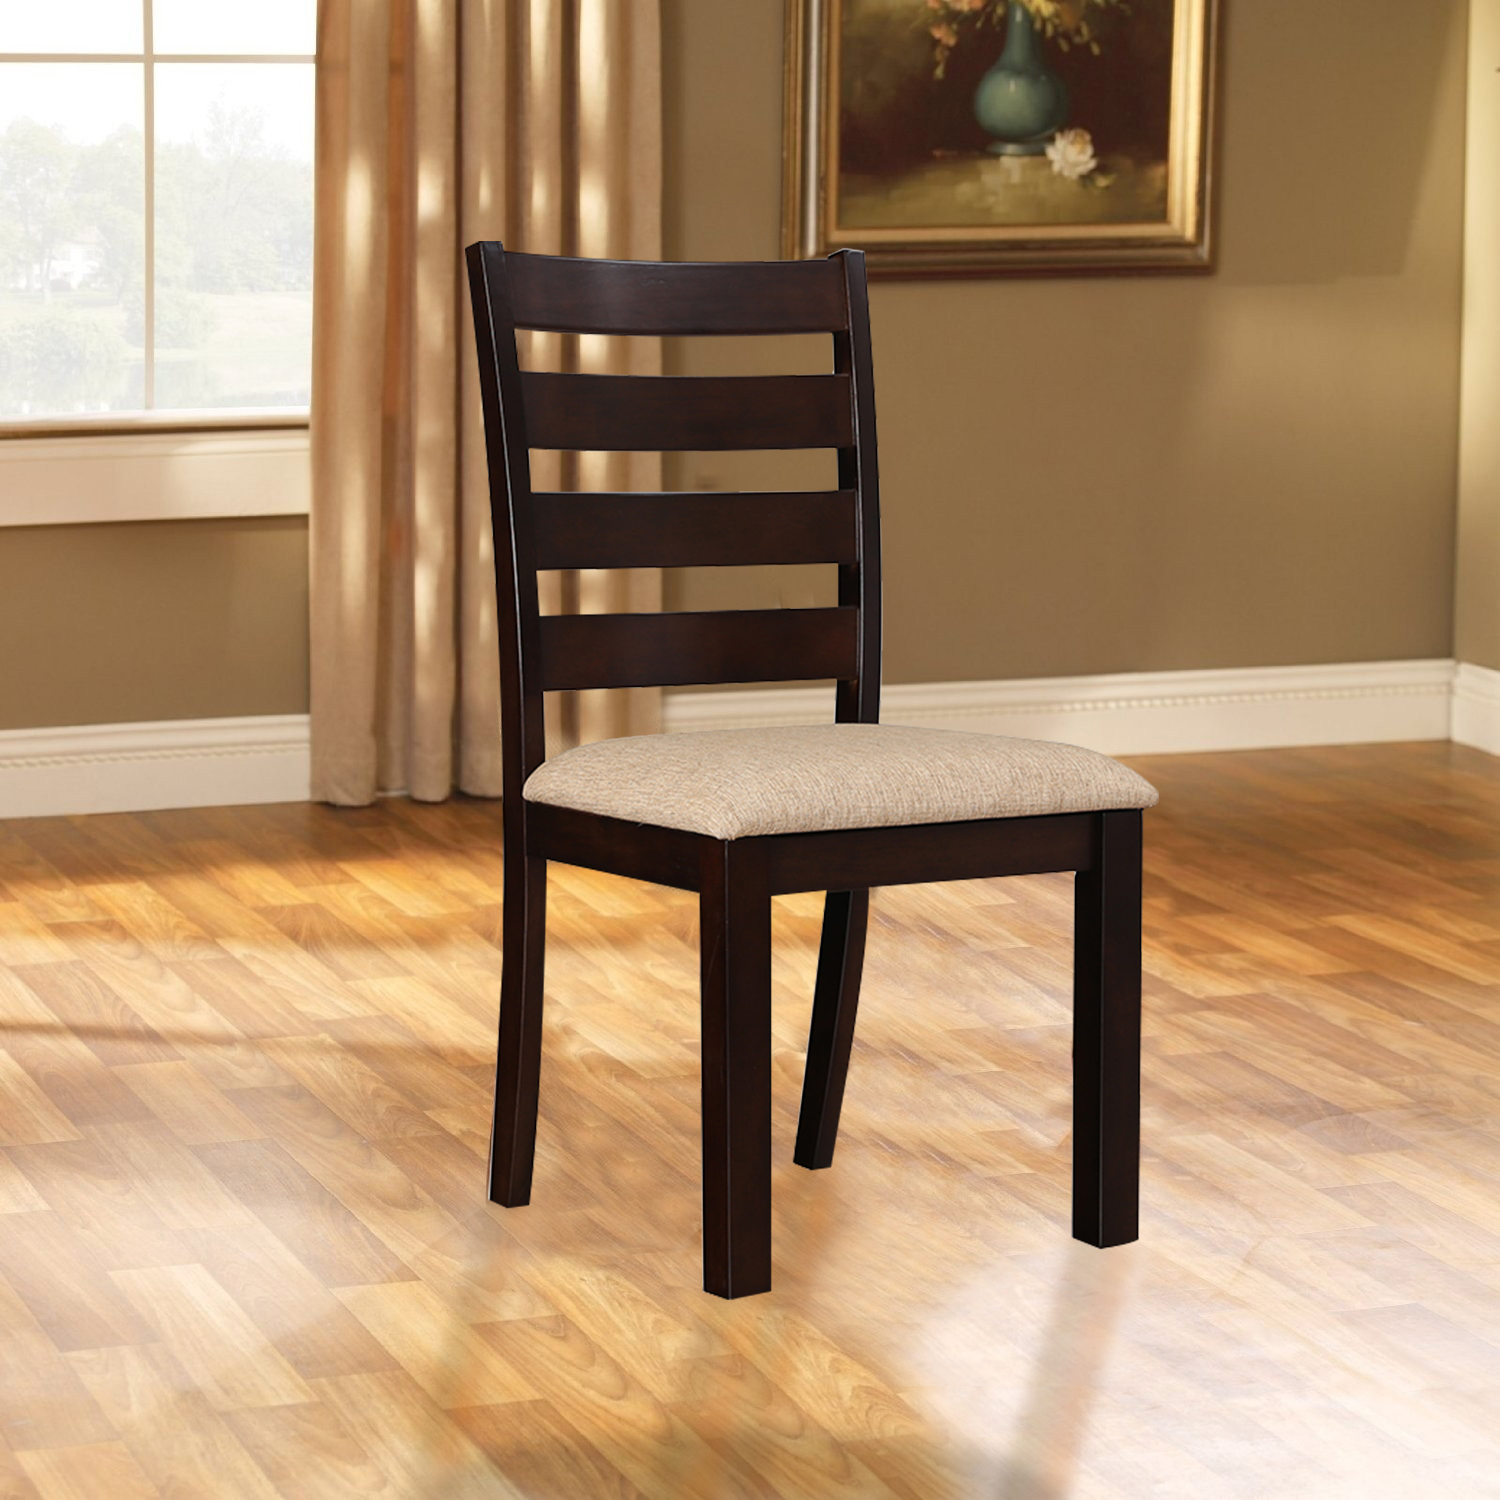chair: (402, 201, 1227, 1334)
